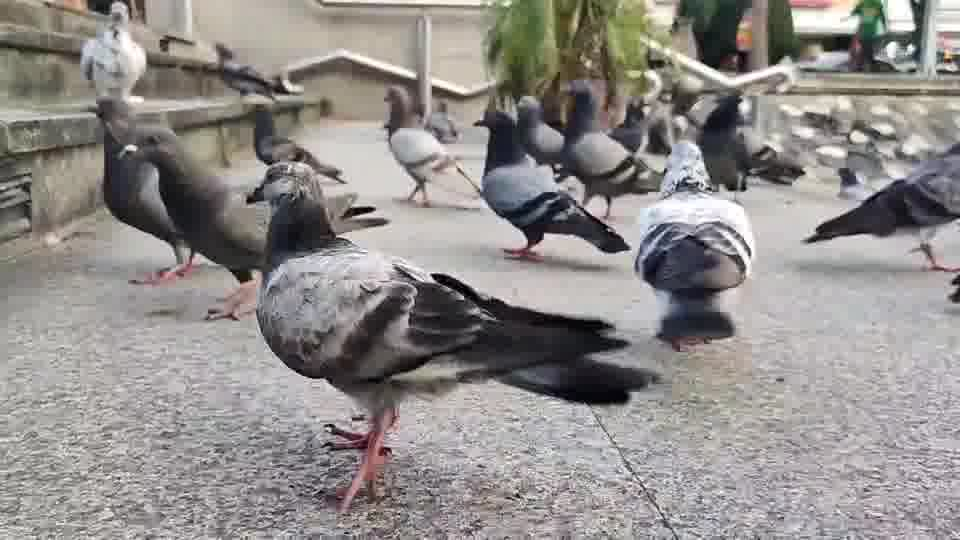Pigeon: (243, 159, 662, 514), (114, 128, 388, 321), (632, 139, 755, 350), (471, 106, 632, 260), (86, 94, 199, 284), (800, 141, 959, 273), (556, 78, 650, 220), (684, 91, 806, 192), (381, 85, 480, 207), (251, 104, 348, 184), (79, 1, 147, 102), (213, 41, 277, 102), (423, 100, 458, 144)
